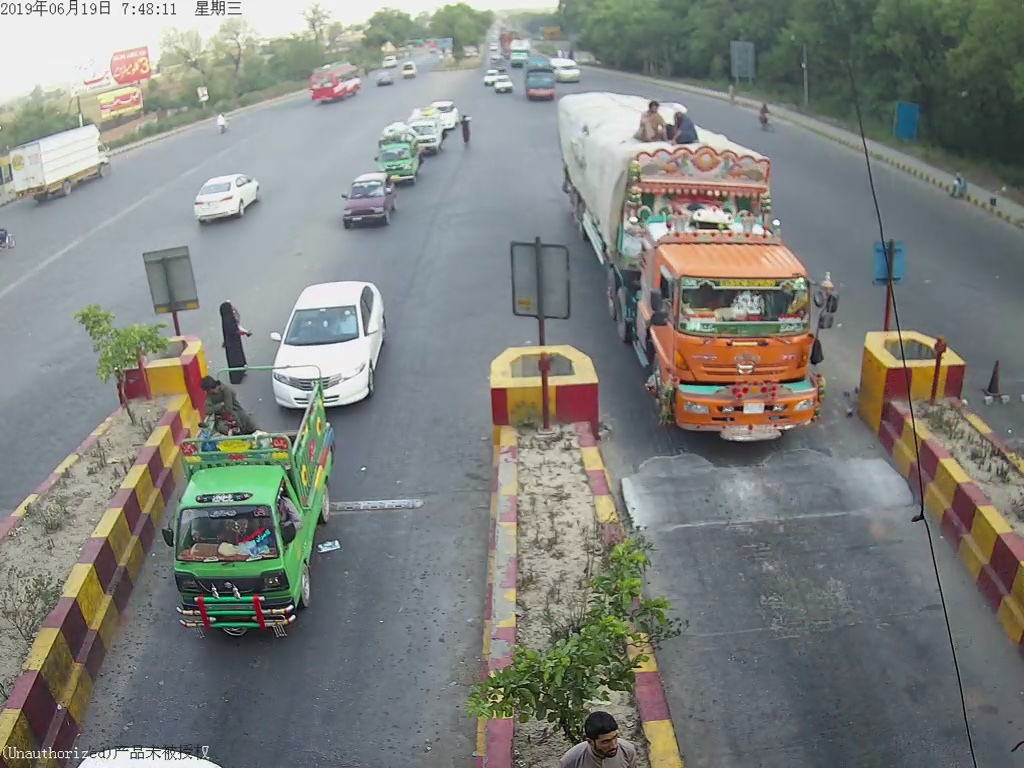Cat-1: (166, 354, 338, 634), (262, 275, 388, 405), (344, 174, 403, 227), (373, 127, 423, 182)
Cat-5: (562, 75, 837, 444)
